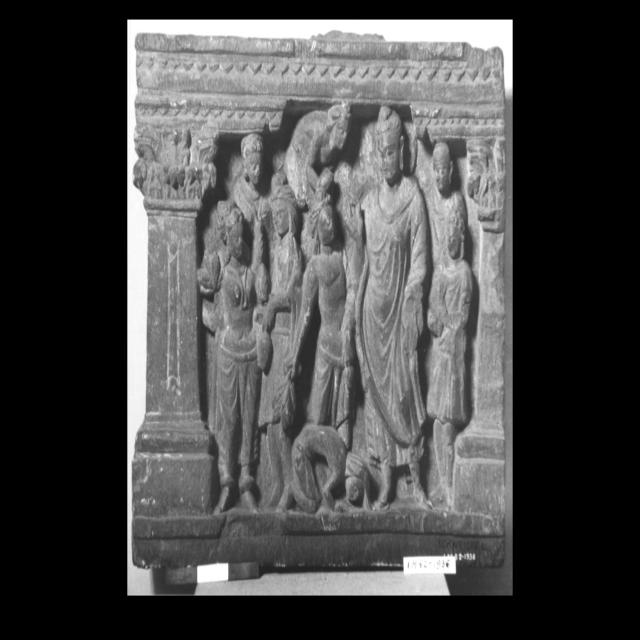buddha-standing: (356, 106, 429, 506)
